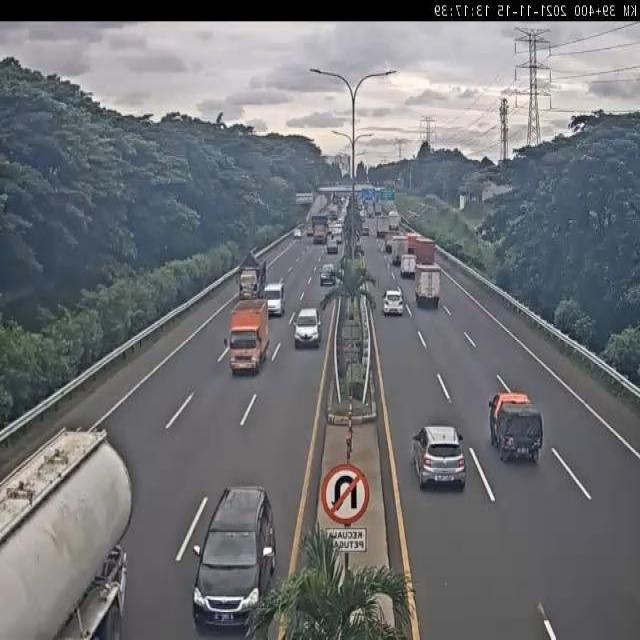Car: (179, 482, 286, 640), (409, 412, 469, 503), (290, 304, 325, 352), (261, 278, 291, 316), (380, 283, 404, 316), (317, 262, 339, 287), (326, 238, 338, 260), (291, 224, 303, 240)
Truck: (0, 416, 140, 639), (487, 377, 549, 462), (221, 296, 272, 386), (229, 248, 267, 304), (412, 262, 444, 308), (308, 212, 330, 246), (412, 239, 438, 266), (391, 234, 410, 270), (386, 208, 405, 232), (401, 252, 417, 279), (376, 214, 390, 238), (407, 230, 420, 250)
